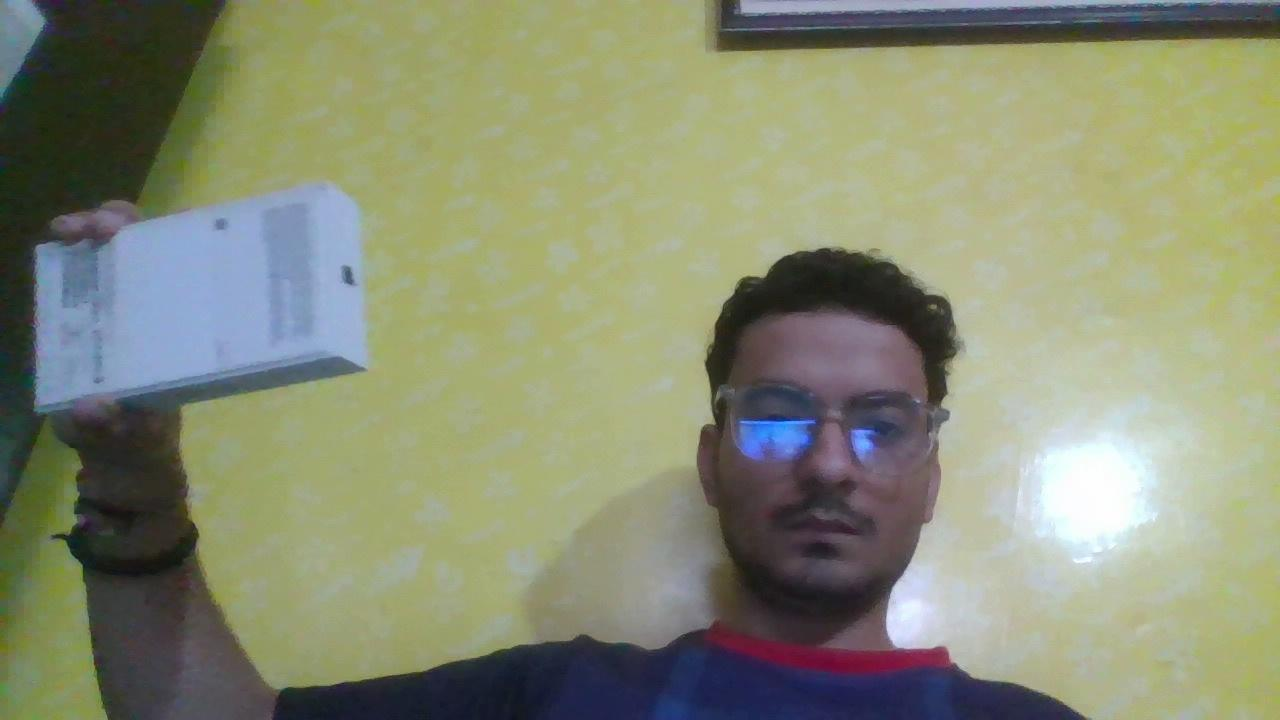Phone: (21, 143, 379, 438)
